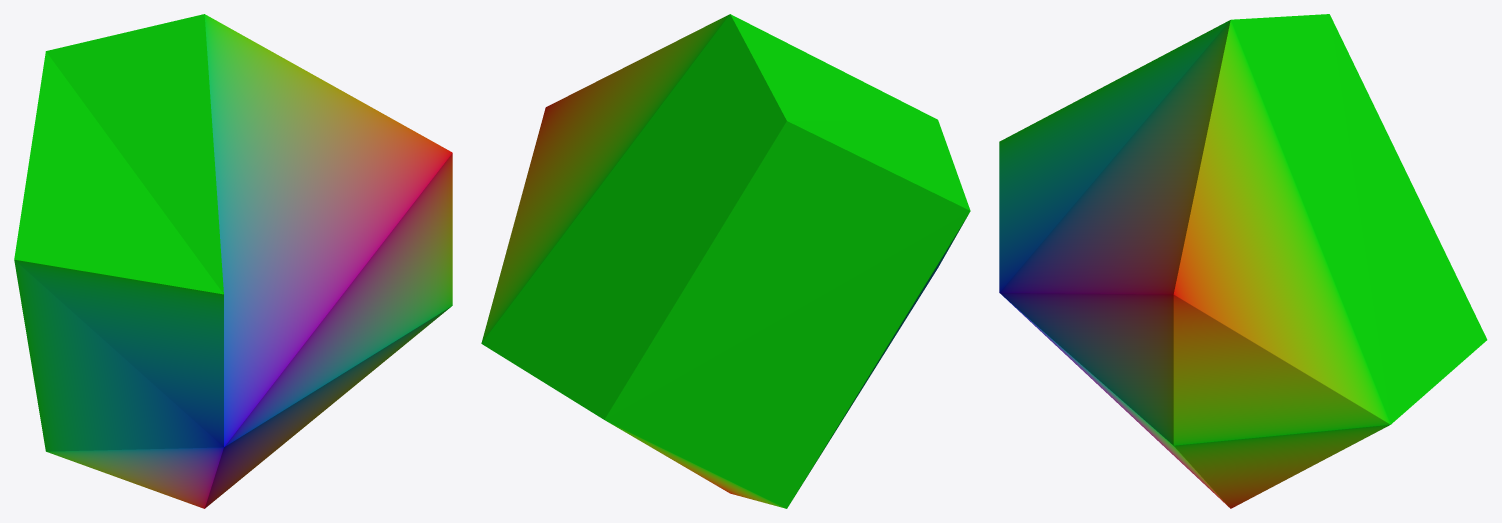
Rendered from all_1.obj.
The picture shows the model from 3 angles, left to right: view 1: azimuth 30°, elevation 25°; view 2: azimuth 150°, elevation 25°; view 3: azimuth 270°, elevation 25°; orthographic projection. The views are drawn at different scales.
Bounding box in the file's own units: 1.85 × 2 × 1.81.
